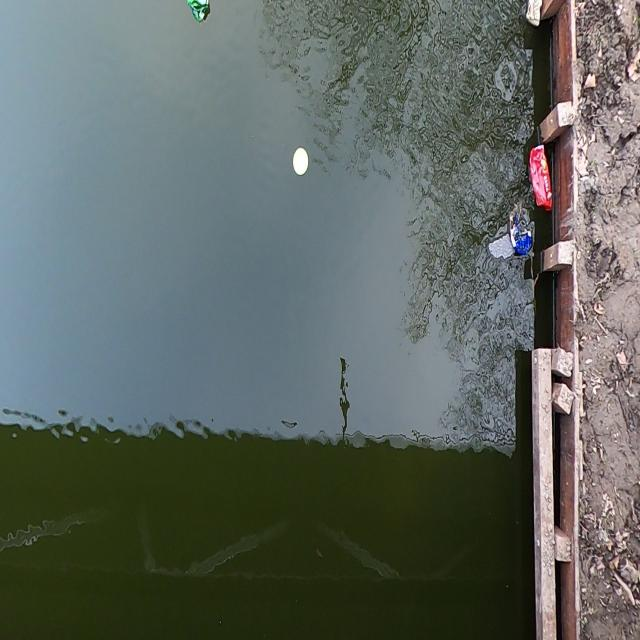Autre plastique: (524, 142, 556, 212), (288, 141, 313, 180)
Sac plastique: (492, 206, 540, 276)
